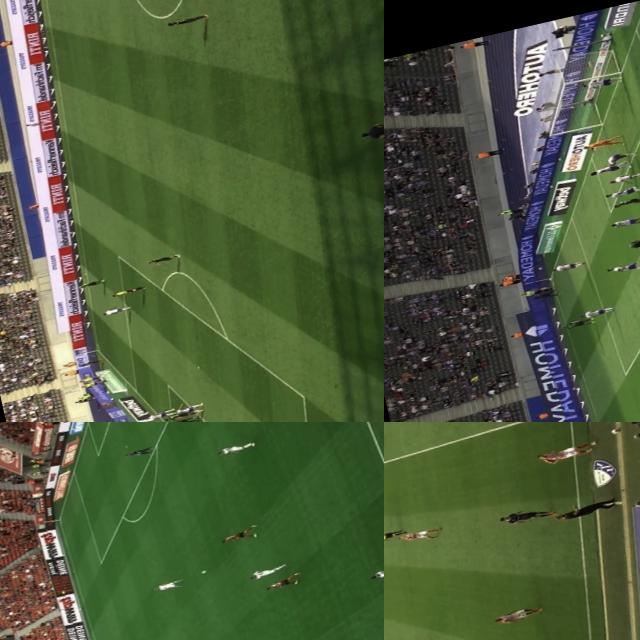ball: (606, 426, 621, 436), (194, 568, 210, 576), (539, 276, 555, 282)
player: (534, 438, 594, 466), (496, 502, 556, 529), (160, 10, 212, 30), (491, 604, 538, 626), (396, 524, 440, 546), (580, 160, 628, 180), (580, 73, 625, 93), (603, 256, 640, 279), (577, 136, 624, 154), (546, 256, 586, 275), (248, 562, 289, 580), (602, 182, 640, 201), (217, 526, 254, 544), (605, 194, 640, 212), (607, 213, 640, 232), (216, 440, 255, 456), (600, 150, 632, 169), (607, 170, 640, 188), (170, 400, 202, 418), (578, 304, 614, 320), (262, 576, 297, 592), (151, 578, 182, 594), (146, 252, 180, 266), (98, 304, 132, 317), (161, 409, 195, 422), (558, 317, 592, 330), (525, 289, 558, 302), (363, 564, 384, 582), (146, 408, 174, 421), (621, 234, 640, 253), (78, 278, 106, 290), (123, 448, 148, 460), (78, 359, 101, 368)
